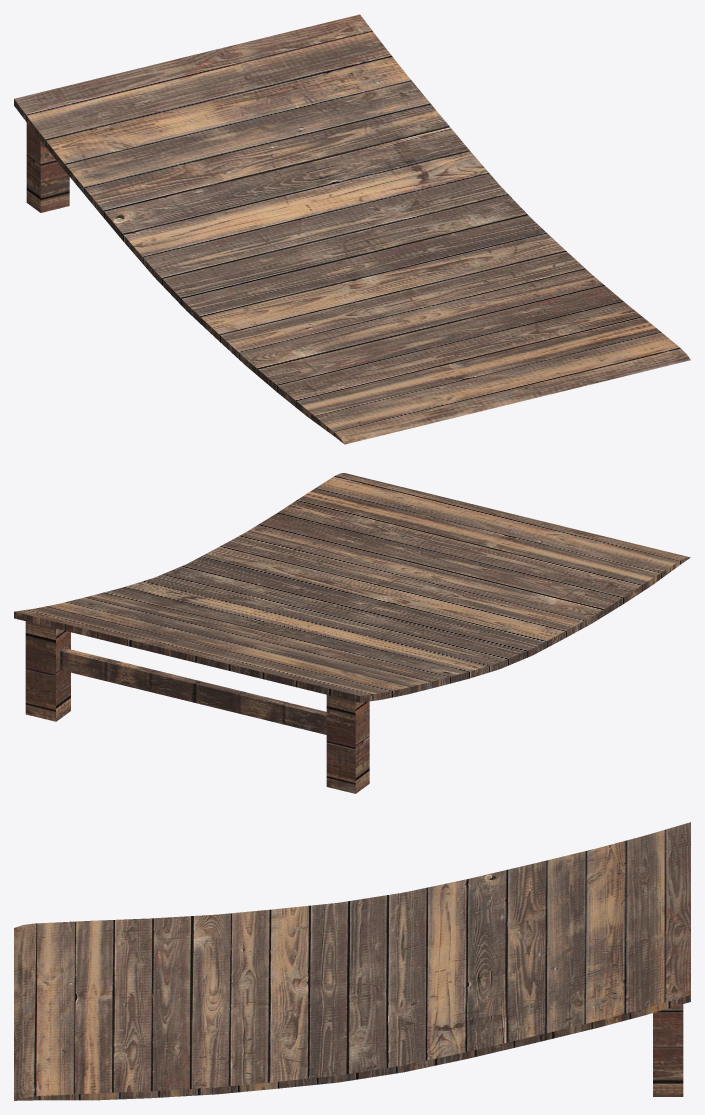
The model's file is ramp.fbx.
3 views of the same model, one above another, from view 1: azimuth 30°, elevation 25°; view 2: azimuth 150°, elevation 25°; view 3: azimuth 270°, elevation 25° (orthographic). The views are drawn at different scales.
Parts seen in each view (by area): view 1: pCube1; view 2: pCube1, pCube2; view 3: pCube1.
Part boxes in pixels (bbox=[...]): pCube1: bbox=[14, 14, 690, 444]; pCube1: bbox=[14, 473, 690, 793]; pCube2: bbox=[60, 648, 326, 734]; pCube1: bbox=[14, 822, 690, 1100].
Bounding box in the file's own units: 4.99 × 1.43 × 8.26.
Materials: 1 (1 with a texture image).
